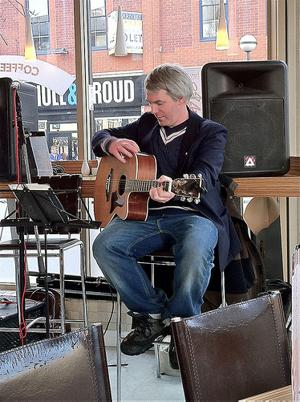person: (91, 66, 237, 371)
